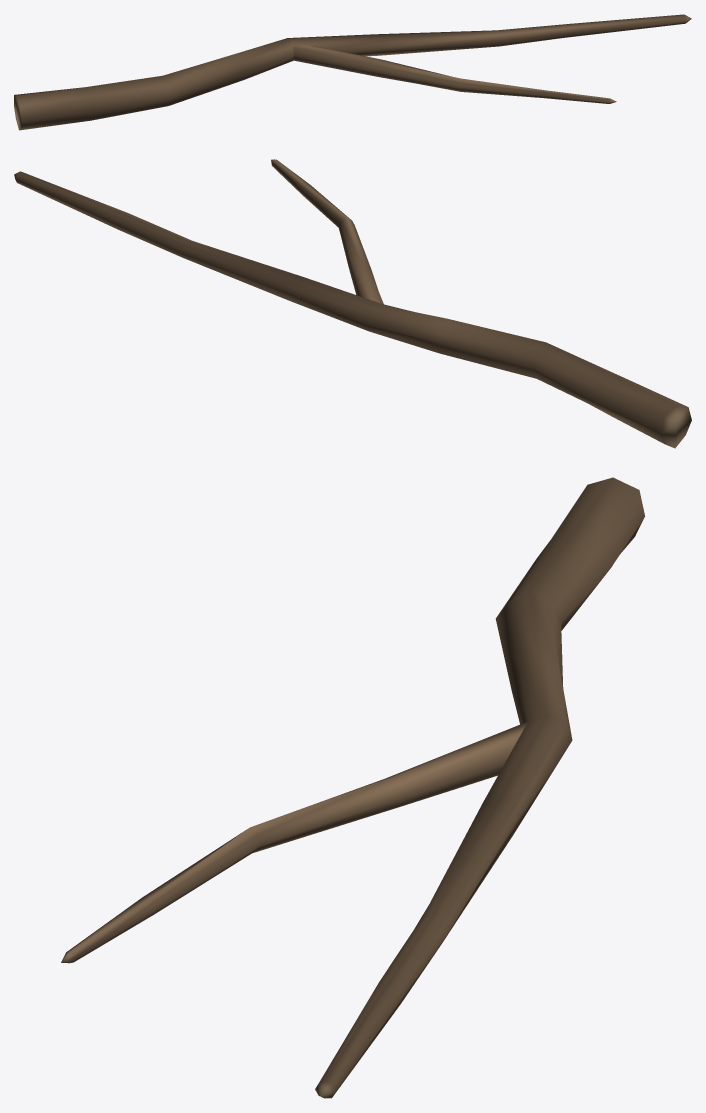
The model's file is ForestBranch_1.glb.
3 views of the same model, one above another, from view 1: azimuth 30°, elevation 25°; view 2: azimuth 150°, elevation 25°; view 3: azimuth 270°, elevation 25° (orthographic). The views are drawn at different scales.
Visible parts, largest first — view 1: ForestBranch_1; view 2: ForestBranch_1; view 3: ForestBranch_1.
Part boxes in pixels (x1,y1,x2,y2): ForestBranch_1: (14,14,691,130); ForestBranch_1: (14,159,691,448); ForestBranch_1: (61,477,644,1098).
Bounding box in the file's own units: 1.7 × 0.1116 × 0.7106.
